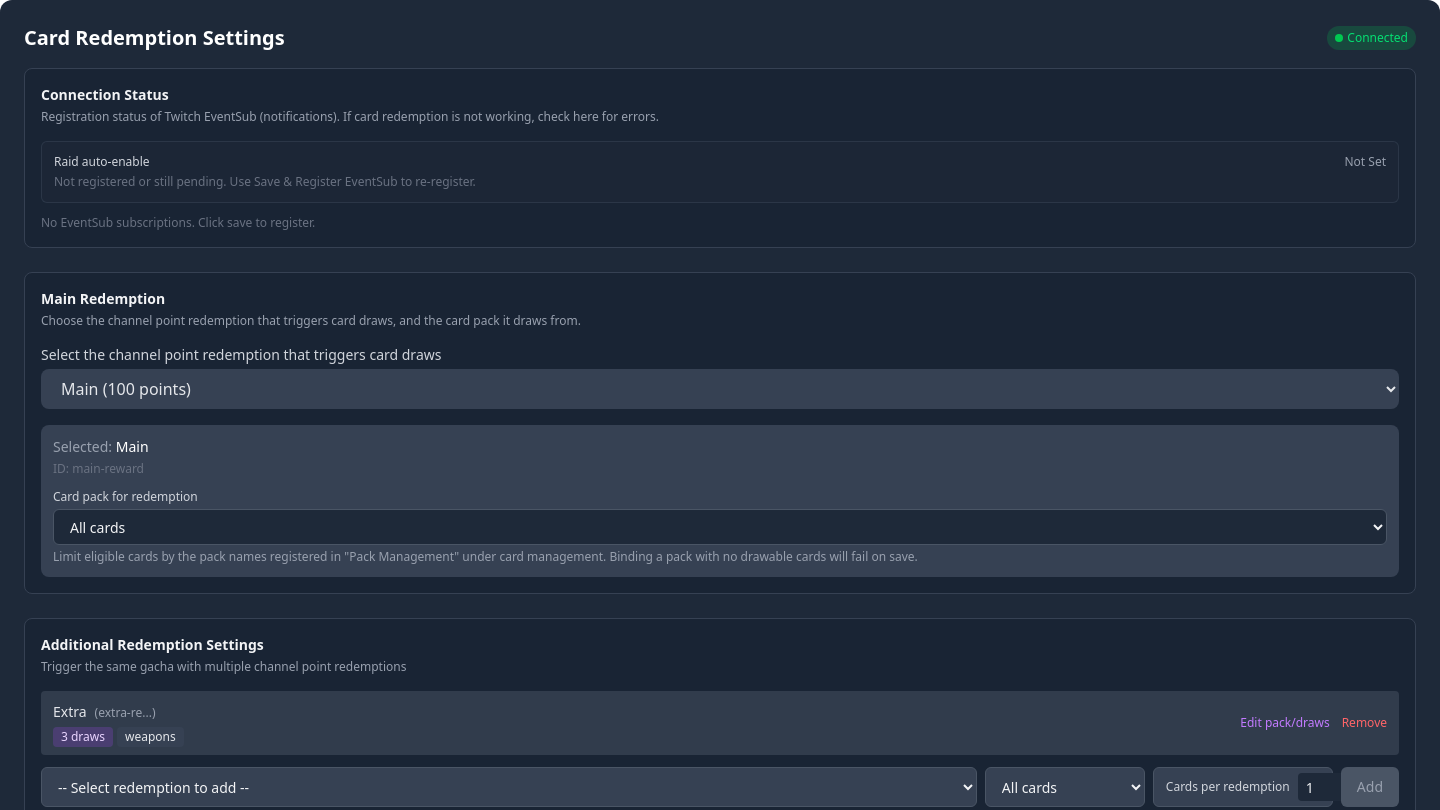
Test case: ChannelPointSettings additional-reward editing › does not relabel unrelated 404 errors as an additional-reward deletion
Click the button with aria-label "Edit pack/draws for Extra" at [1285, 723], box [1240,715,1330,731]
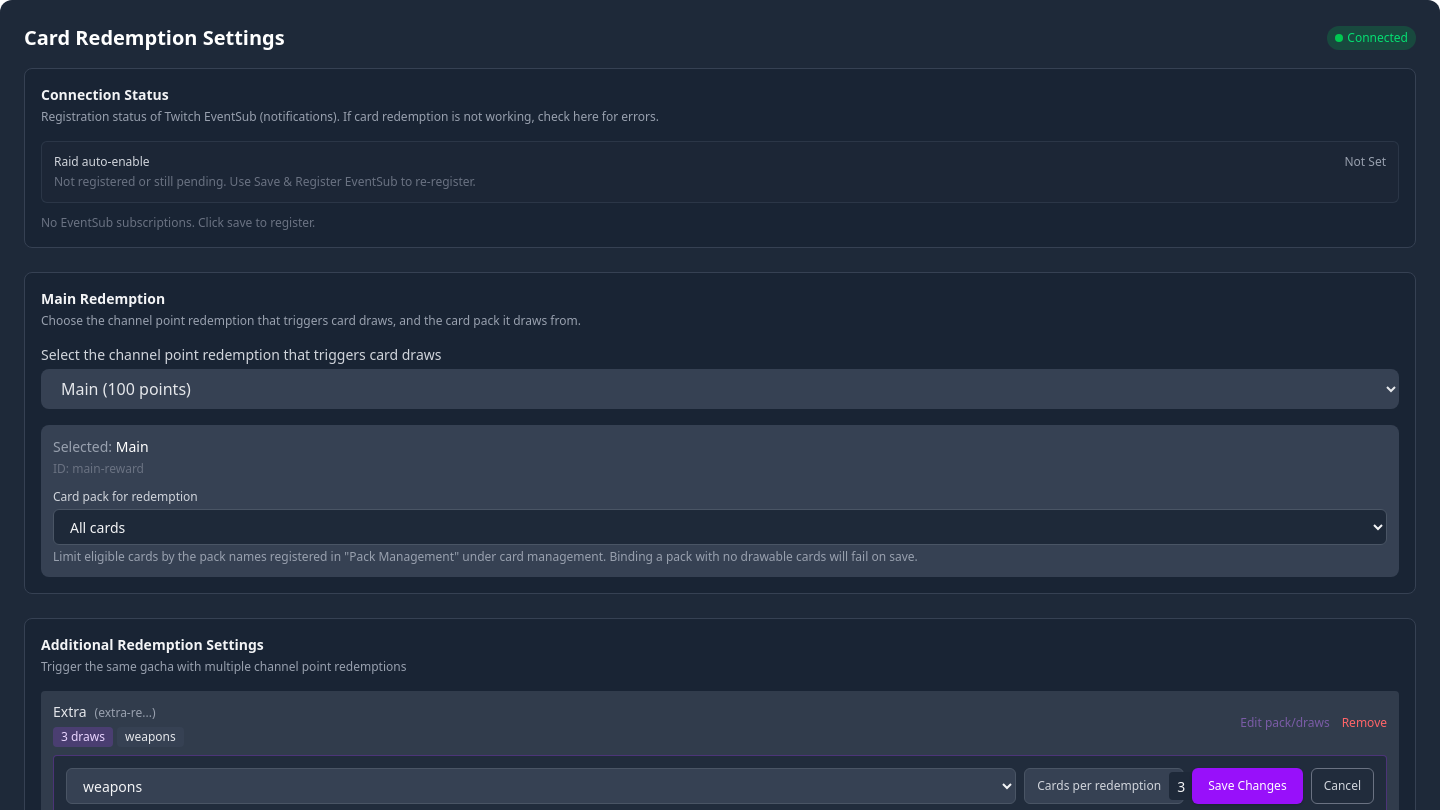
Click the button "Save Changes" at [1248, 786], box [1192,768,1303,804]
(page scrolled)
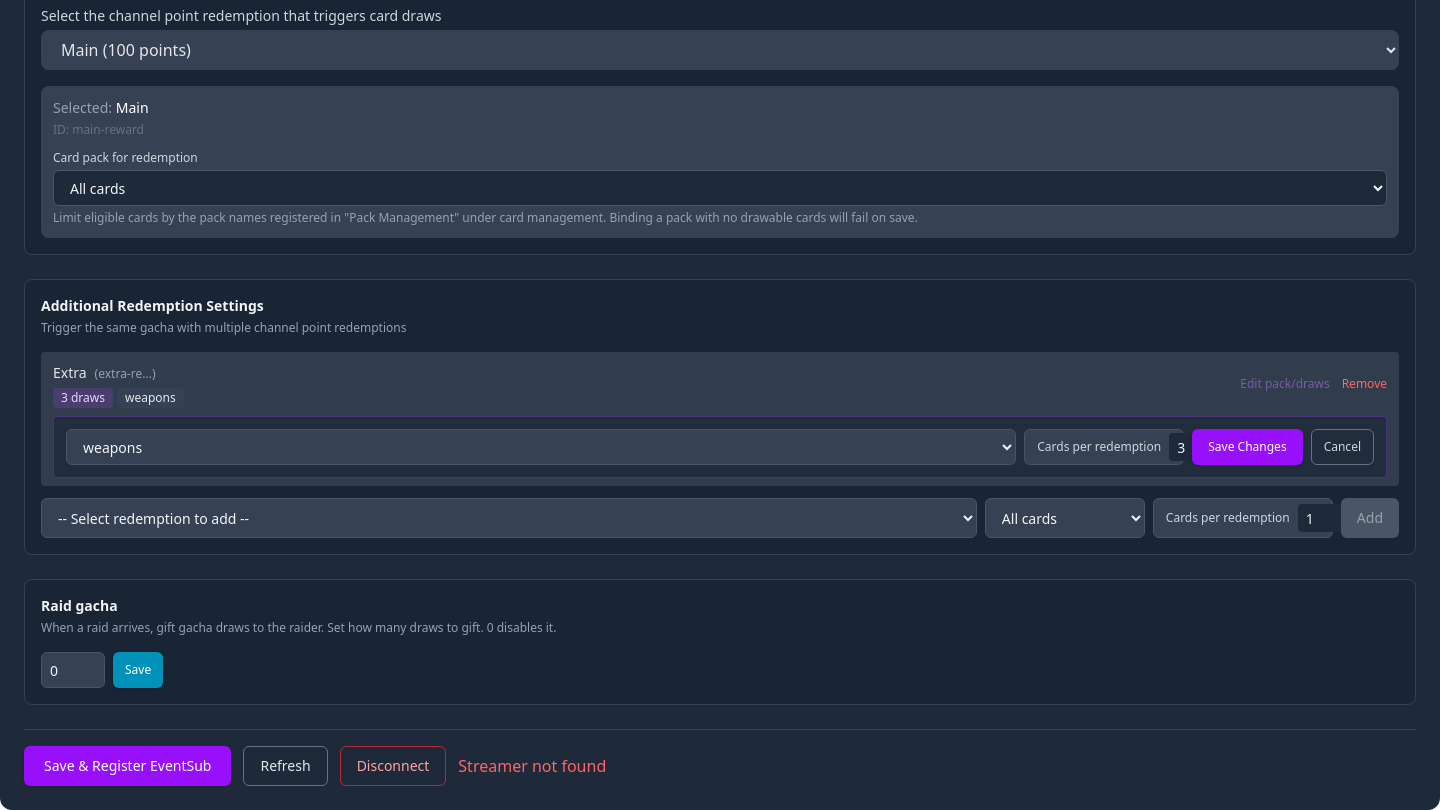
Now the text "Streamer not found" is shown, box [458,754,606,778]
